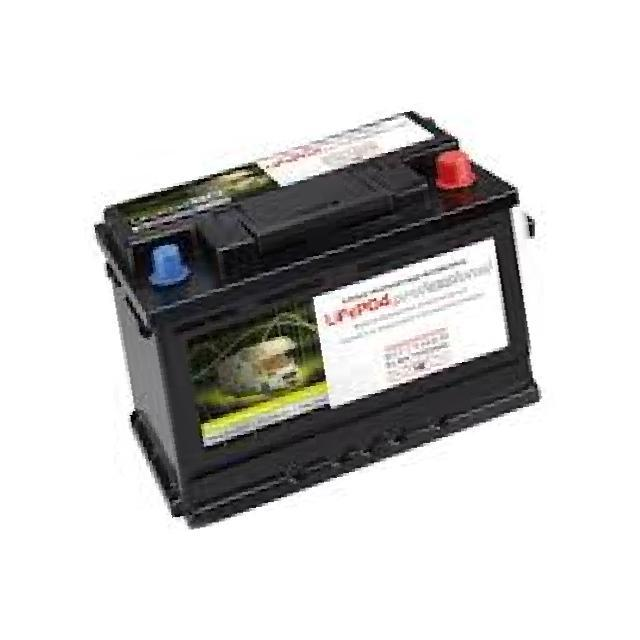Battery: (81, 94, 591, 556)
